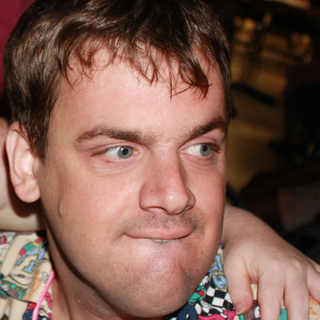eye: (94, 140, 145, 164), (182, 138, 225, 162)
